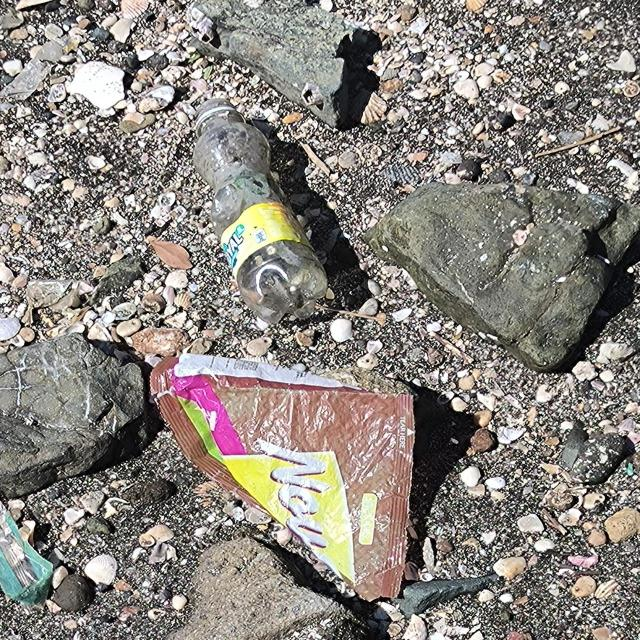plastic_waste: (150, 354, 417, 600), (192, 100, 331, 324)
